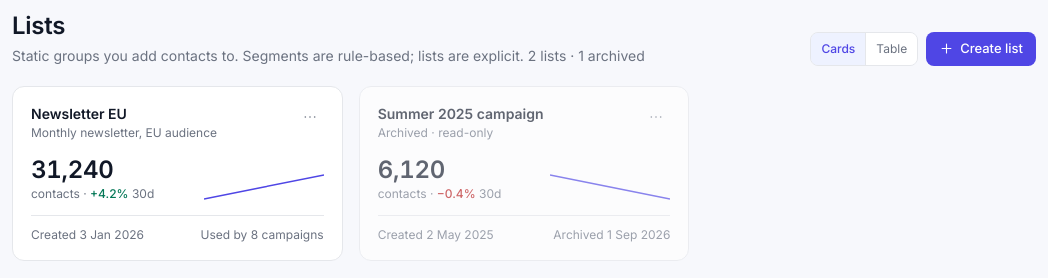
Test: lists › switches between the card and table layouts
Click the button "Table": (891, 49) [865,33,917,65]
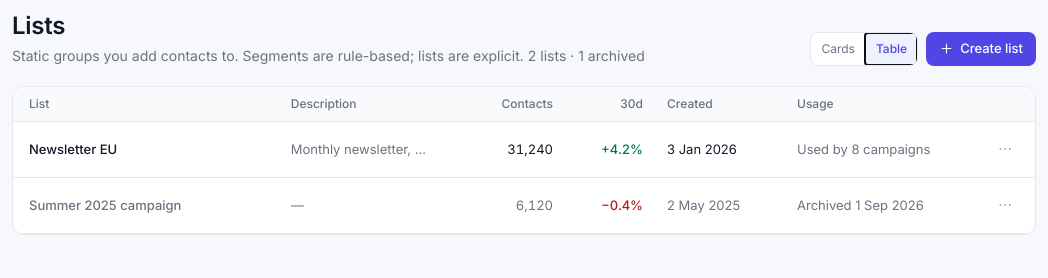
Now the table named "Lists" is shown, box [13,87,1035,234]
